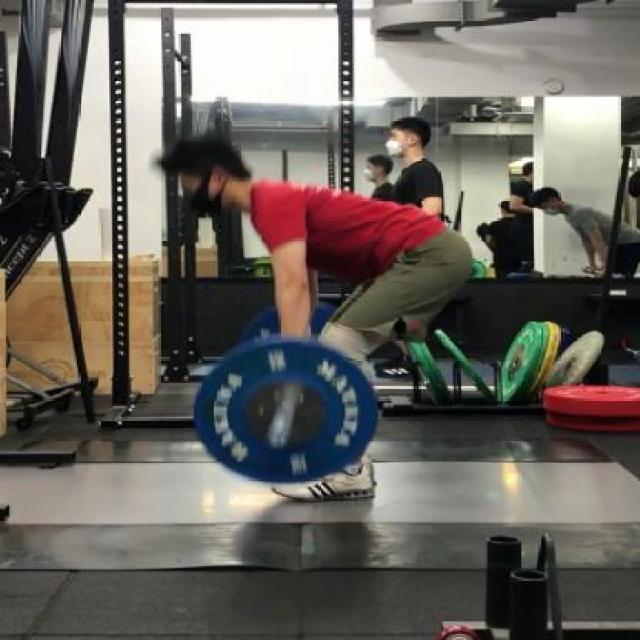Barbell: (263, 430, 297, 452)
